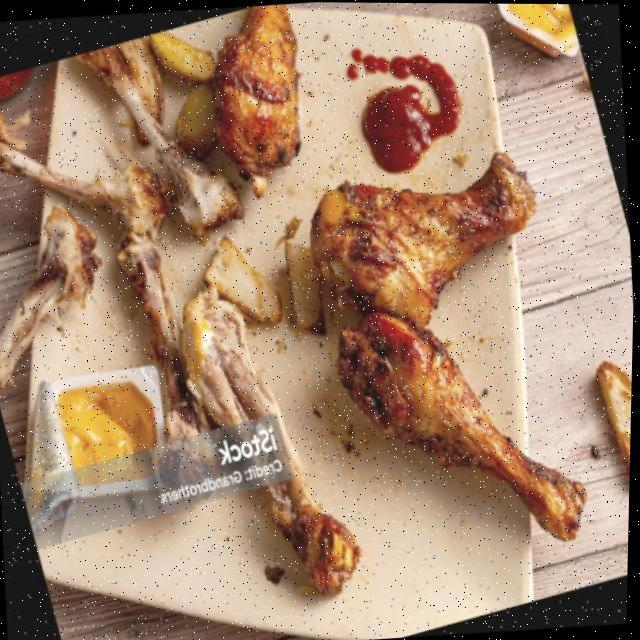Wet Waste: (166, 284, 372, 616), (102, 212, 235, 516), (84, 17, 256, 252), (0, 94, 149, 263), (0, 221, 110, 383)
